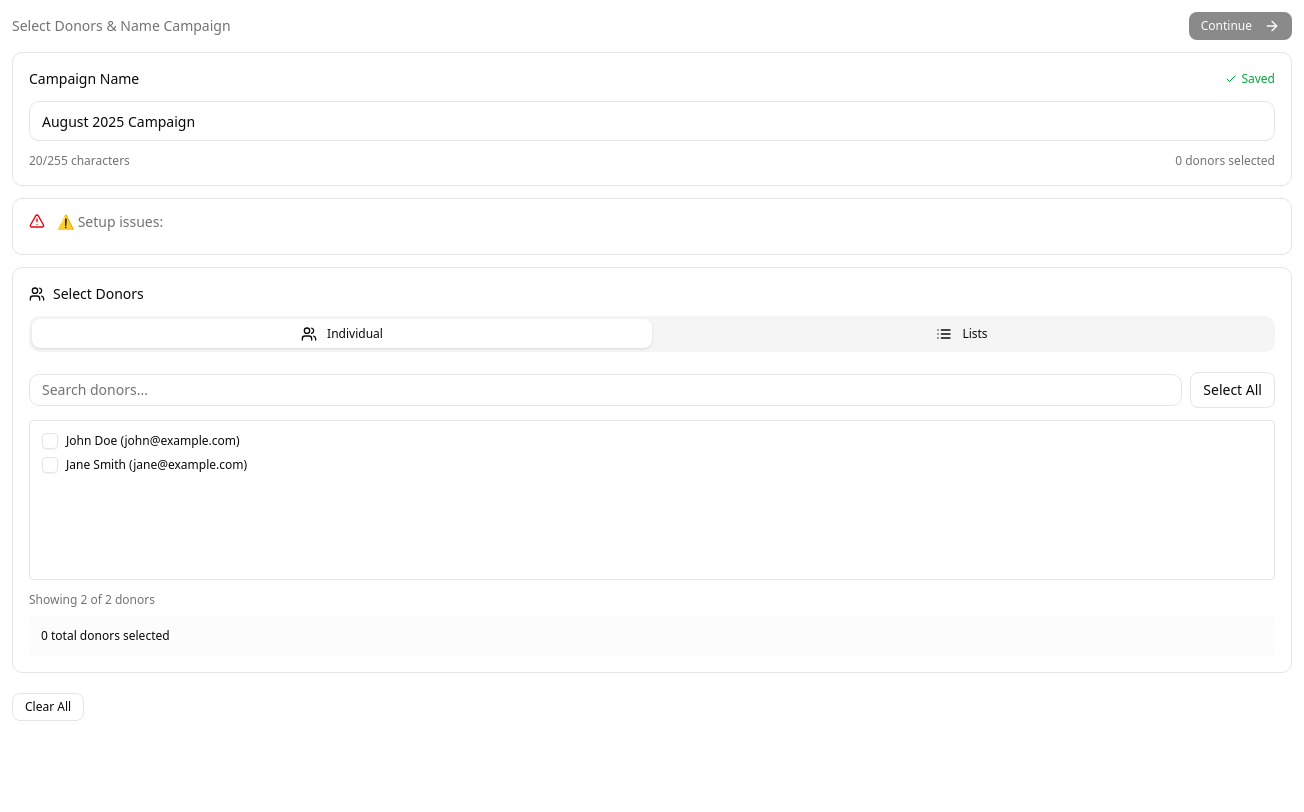
Scenario: SelectDonorsAndNameStep › should filter donors based on search
Expected: the checkbox next to "John Doe" is shown, 42,433 -> 58,449
Expected: the text "John Doe (john@example.com)" is shown 2 times, 66,435 -> 240,447; 66,459 -> 247,471
Type "John" into the field with placeholder "Search donors...". click: (606, 390)
box: 29,374 -> 1182,406
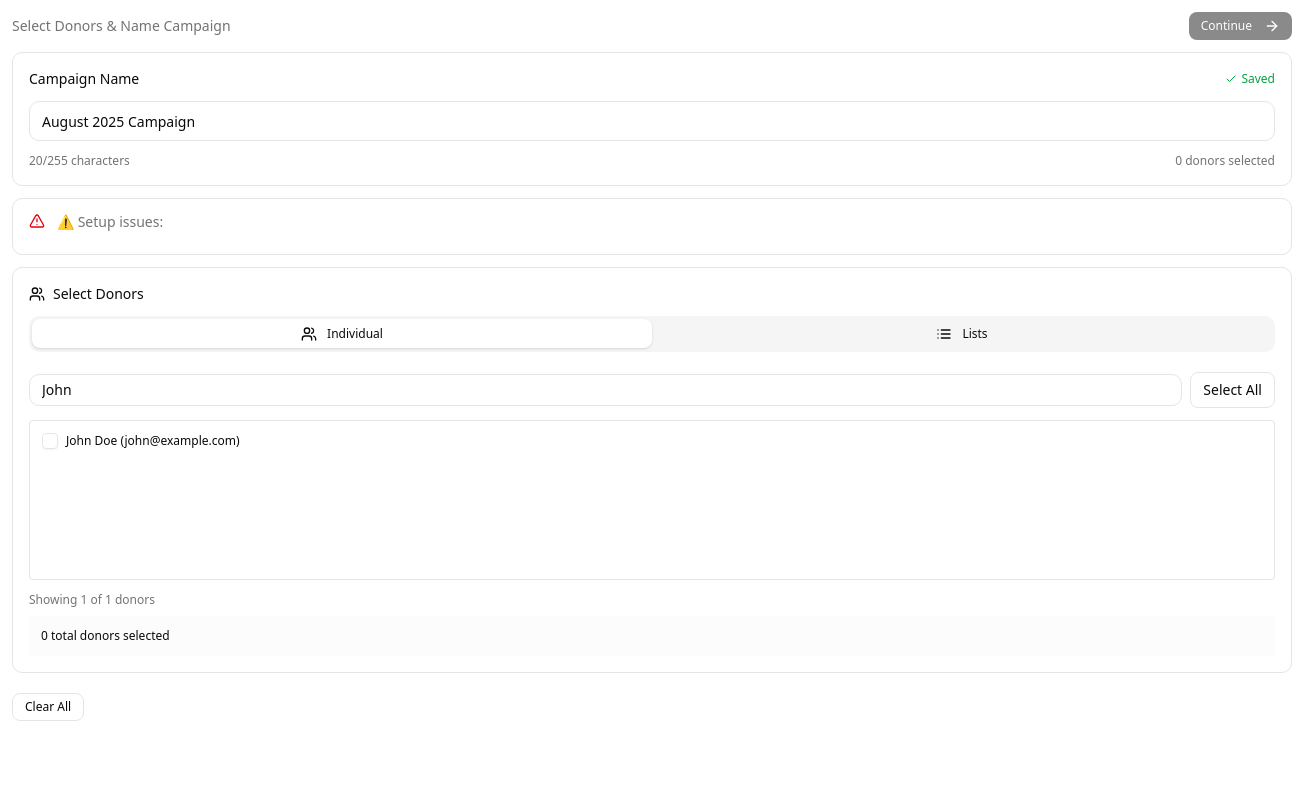
Expected: the text "John Doe (john@example.com)" is shown, 66,435 -> 240,447
Expected: the text "John Doe (john@example.com)" is shown once, 66,435 -> 240,447
